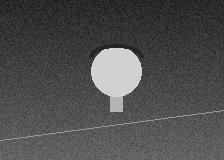no_helmet: (91, 44, 141, 101)
